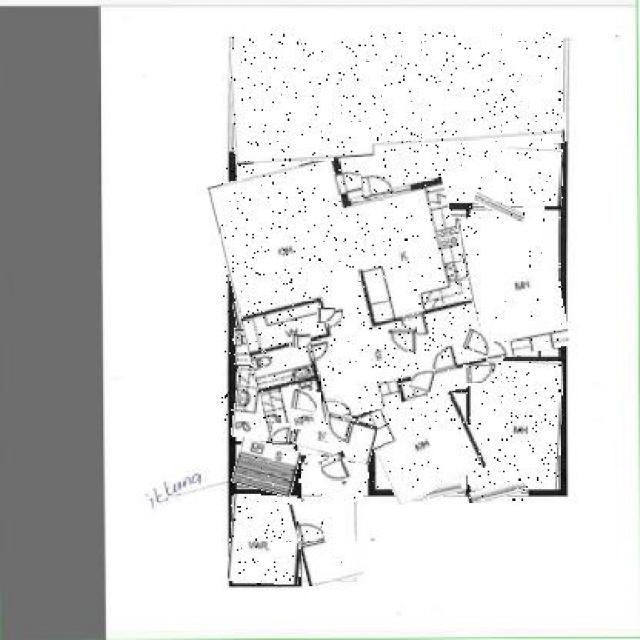door: (322, 454, 352, 484), (323, 414, 351, 444), (360, 174, 394, 197), (388, 326, 417, 352), (463, 331, 494, 354), (297, 520, 325, 543), (411, 366, 435, 392), (292, 390, 320, 412), (463, 365, 492, 383), (274, 423, 289, 443), (294, 332, 312, 348), (317, 308, 335, 323)
window: (472, 197, 526, 218), (248, 148, 328, 162), (468, 483, 526, 500), (406, 483, 462, 500), (369, 198, 434, 212)
zone: (222, 144, 478, 424), (231, 33, 563, 158), (463, 208, 563, 357), (366, 381, 479, 497), (368, 140, 563, 203), (469, 360, 562, 488), (229, 496, 303, 584), (294, 494, 358, 584), (234, 368, 297, 440), (294, 411, 375, 460), (232, 441, 298, 494), (234, 290, 317, 328), (300, 458, 368, 498), (235, 328, 292, 362)
